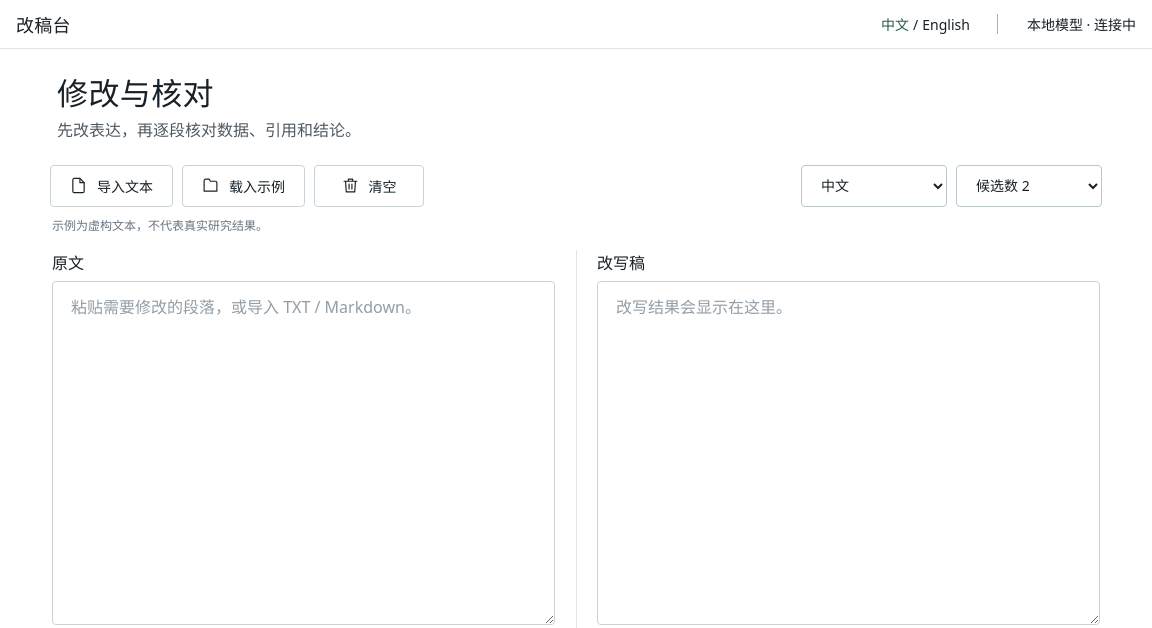
Test: explains candidates requiring manual review in both interface languages
In the text box labelled "原文": (304, 453) left=52, top=281, right=555, bottom=625, type "试验重复5次。"
(page scrolled)
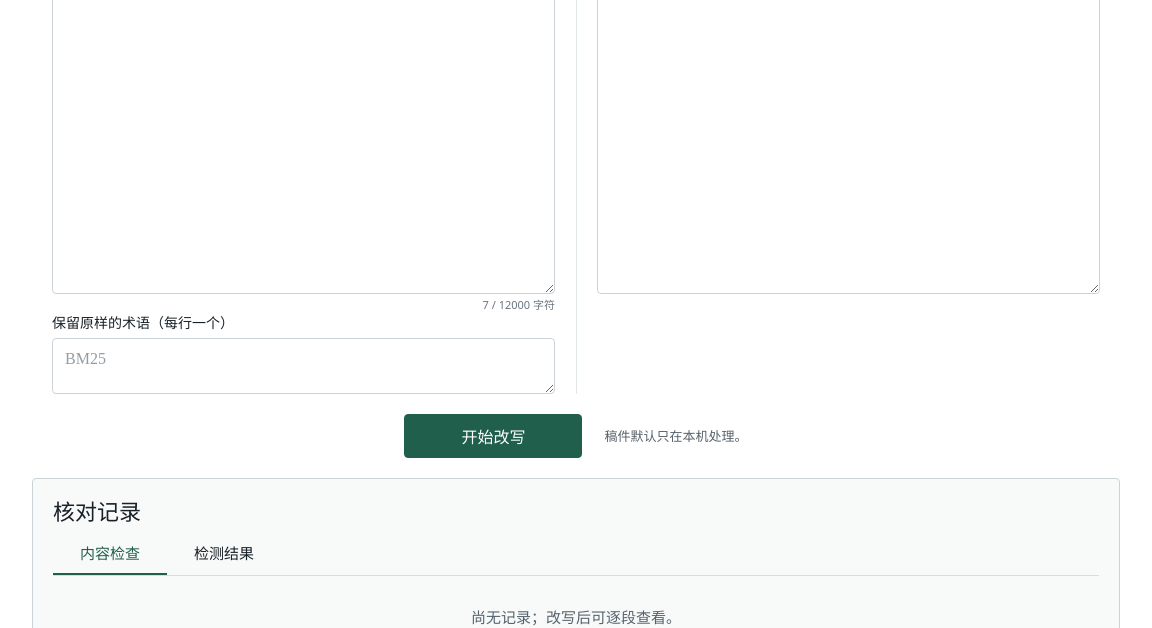
Click the button "开始改写": (494, 436) left=404, top=414, right=582, bottom=458
(page scrolled)
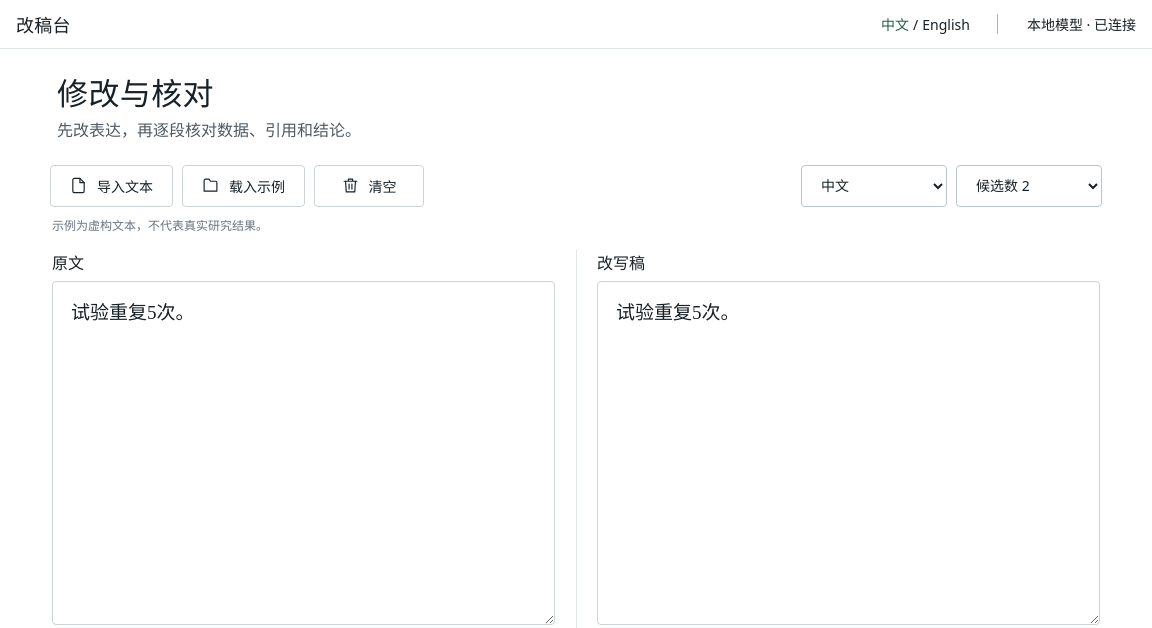
Click the button "English": (946, 24) left=922, top=10, right=970, bottom=38
(page scrolled)
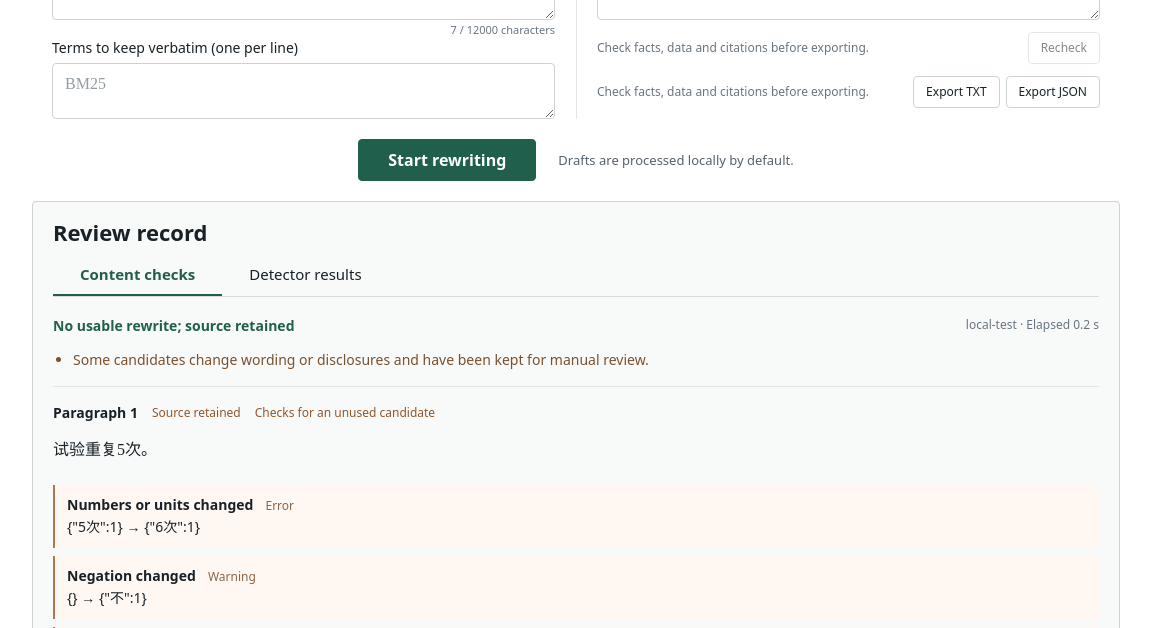
Check: the list item "Some candidates change wording or disclosures and have been kept for manual review." is shown, box left=73, top=350, right=649, bottom=369
